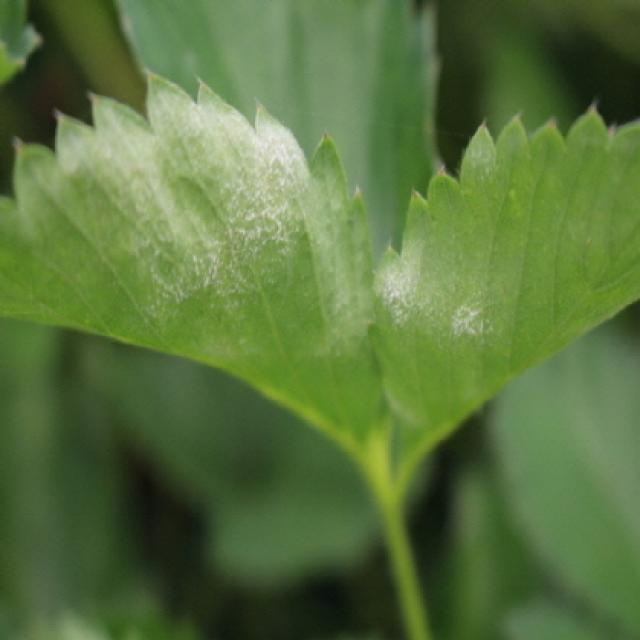powdery_mildew_leaf: (0, 67, 390, 471), (367, 97, 638, 477)
